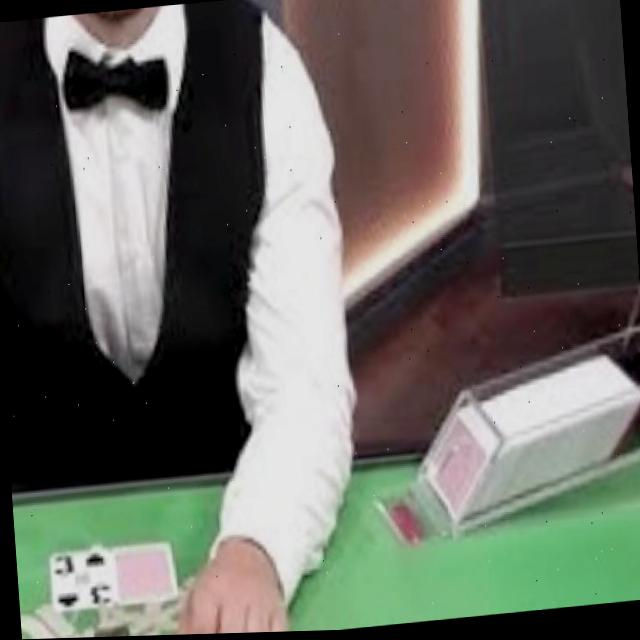Card-3: (50, 544, 118, 611)
